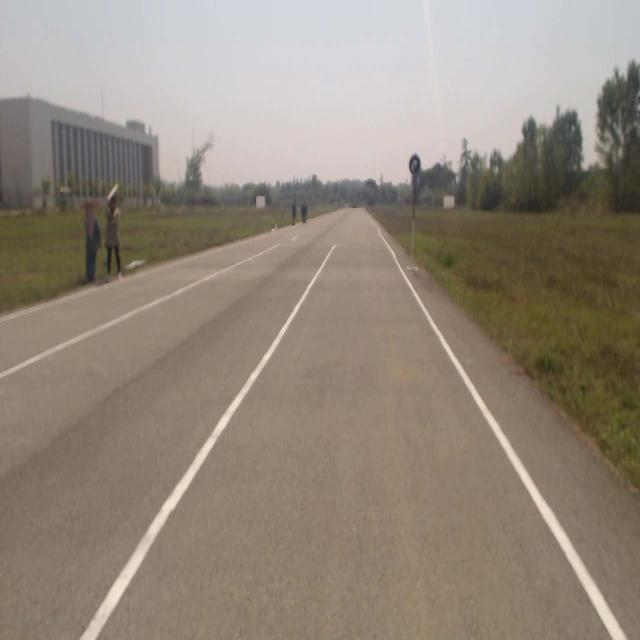sag: (409, 154, 421, 174)
